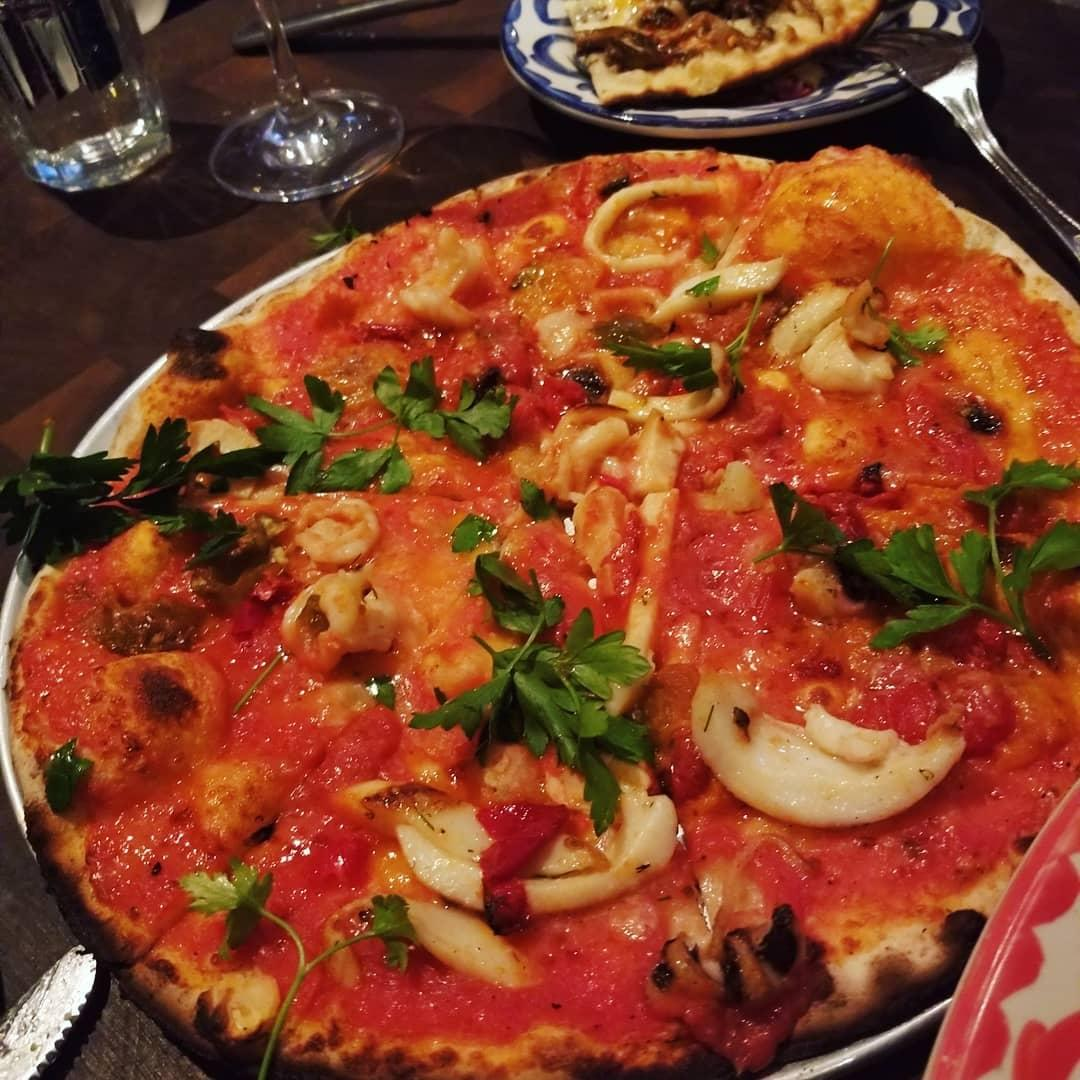Arugula: (838, 522, 1058, 652), (478, 598, 640, 752), (0, 445, 107, 572), (380, 378, 502, 450)
Mushroom: (653, 900, 811, 1006), (269, 560, 401, 660), (292, 484, 403, 567), (832, 270, 904, 352)
Pizza: (0, 140, 1080, 1080)
